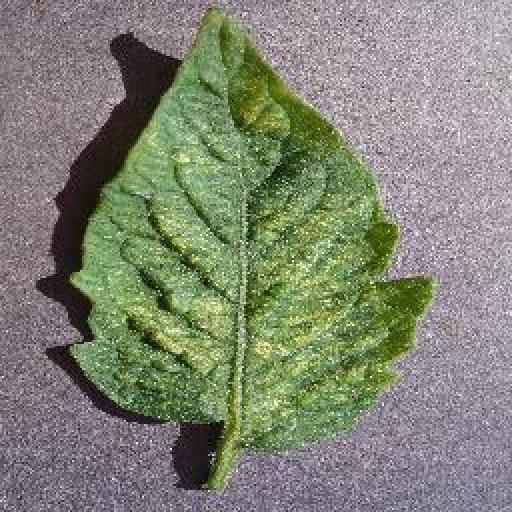Spider Mites: (69, 2, 432, 446)
